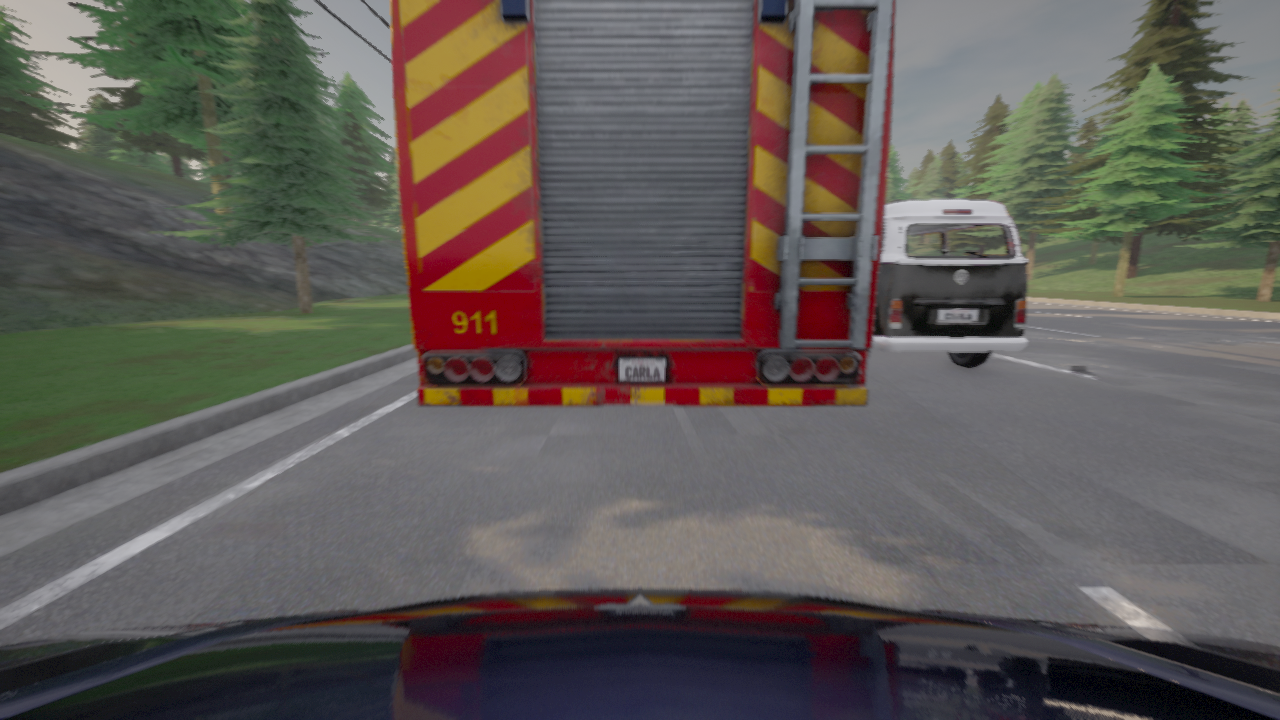cyclist: (390, 0, 895, 405), (0, 588, 1279, 719), (868, 199, 1028, 367), (890, 199, 901, 202)
